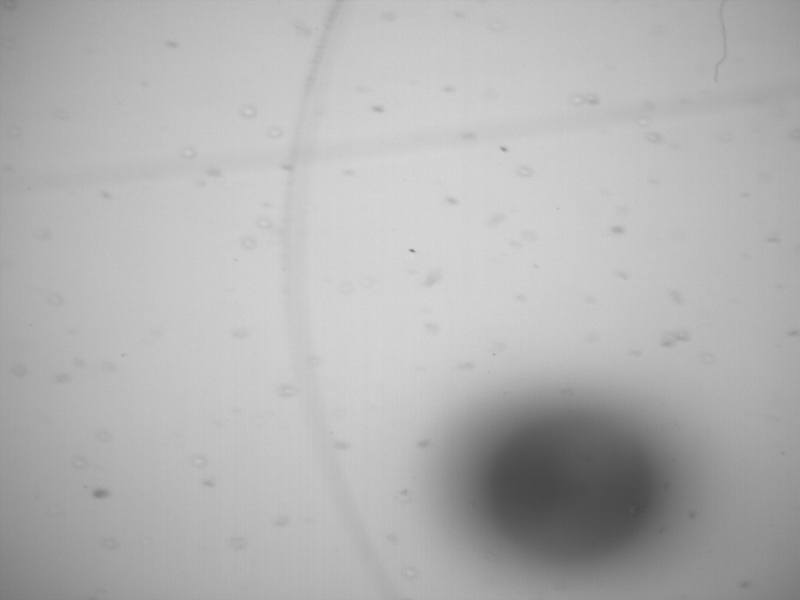bead: (484, 408, 663, 572)
fiber: (710, 1, 731, 86)
